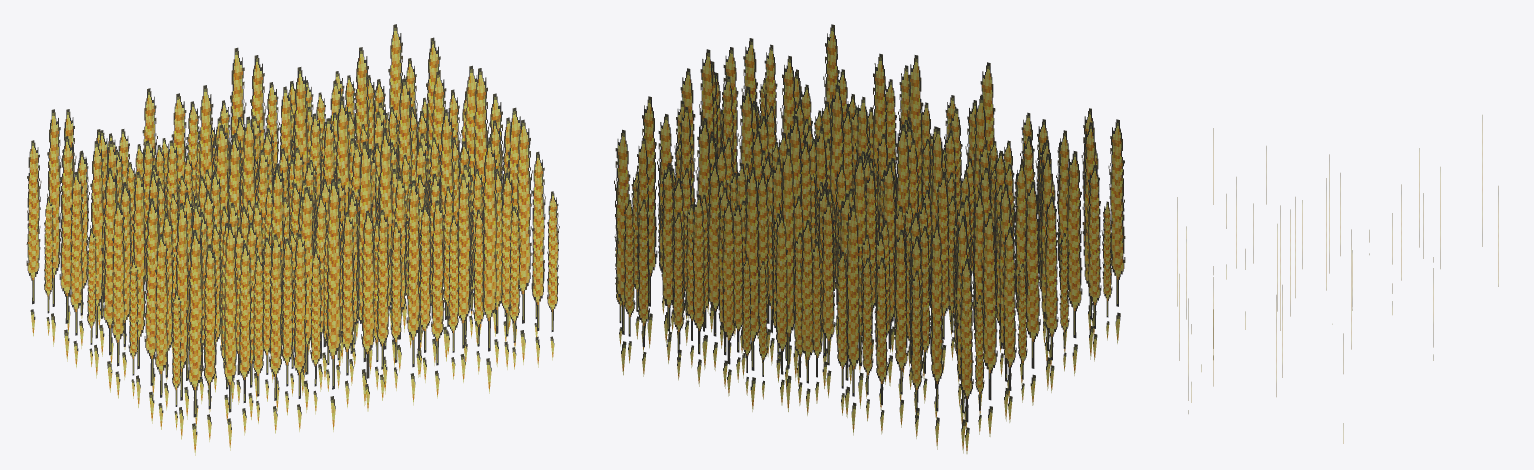
The picture shows the model from 3 angles, left to right: view 1: azimuth 30°, elevation 25°; view 2: azimuth 150°, elevation 25°; view 3: azimuth 270°, elevation 25°; orthographic projection. The views are drawn at different scales.
Parts seen in each view (by area): view 1: XiaoMai_1; view 2: XiaoMai_1; view 3: XiaoMai_1.
Part boxes in pixels (bbox=[...]): XiaoMai_1: bbox=[26, 24, 559, 455]; XiaoMai_1: bbox=[614, 24, 1125, 453]; XiaoMai_1: bbox=[1177, 115, 1498, 443].
Bounding box in the file's own units: 559 × 359 × 407.
